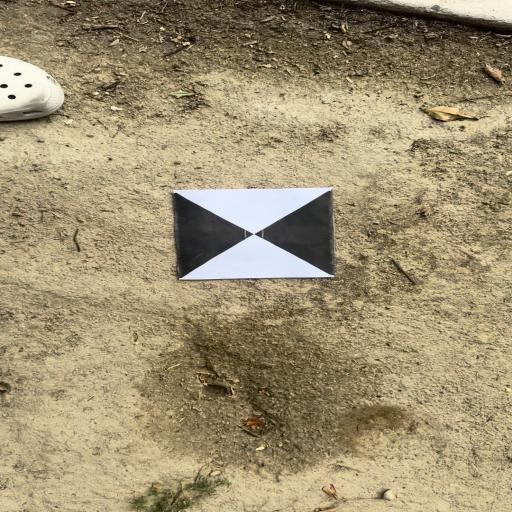target: (172, 189, 339, 277)
